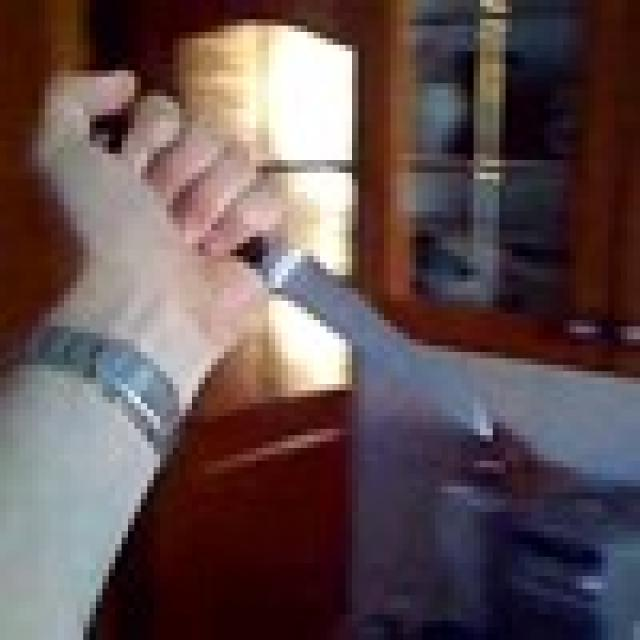Knife: (102, 115, 486, 435)
